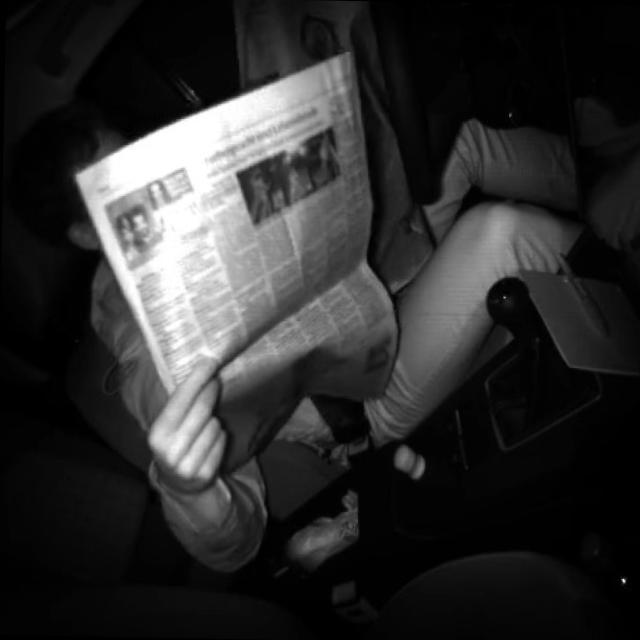pen: (553, 248, 608, 336)
